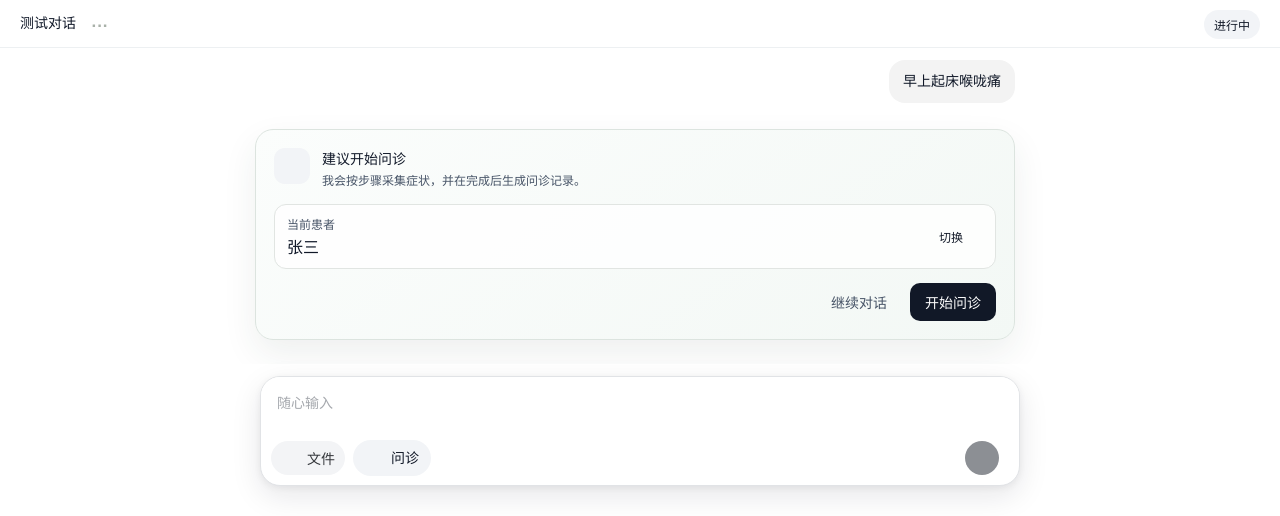
ConsultationChatPanel run governance › offers the current patient after the assistant suggests consultation
Expected: the element named "是否开始问诊" is shown, 255,129 -> 1015,340
Expected: the text "建议进一步了解你的症状。" is not shown
Click the button with aria-label "切换问诊患者，当前张三" at x=311, y=225, box 274,204 -> 996,269
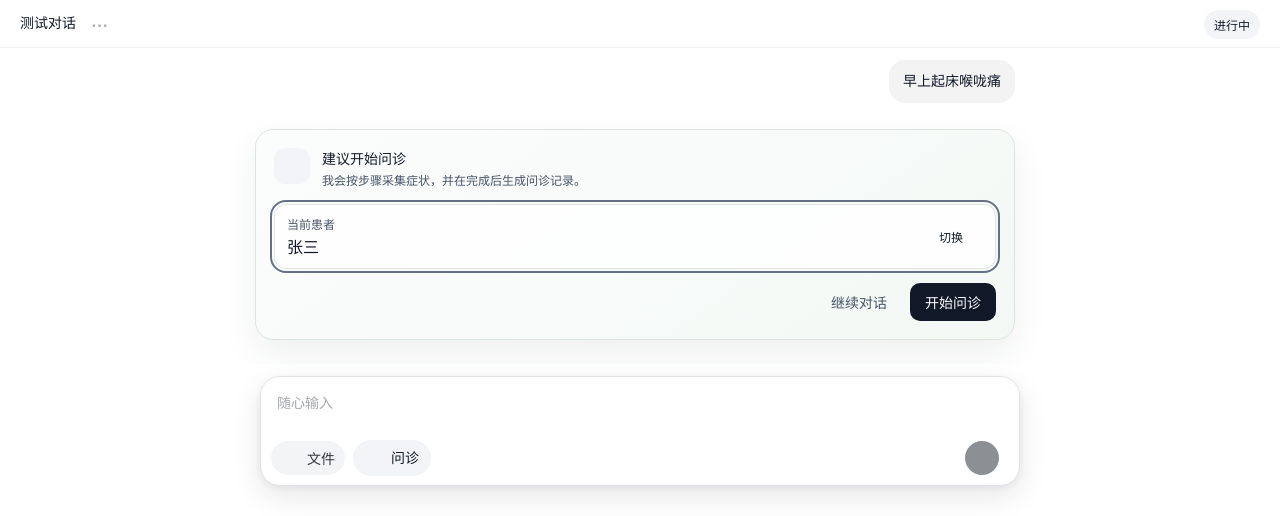
Click the button "开始问诊" at x=953, y=302, box 910,283 -> 996,321
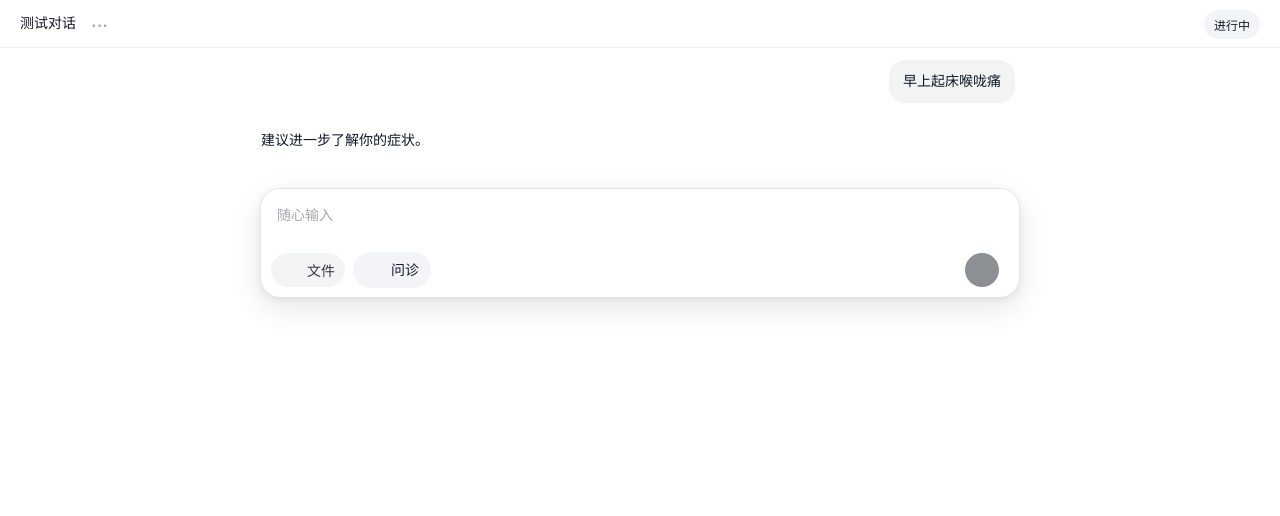
Result: the field labelled "是否开始问诊" is gone
